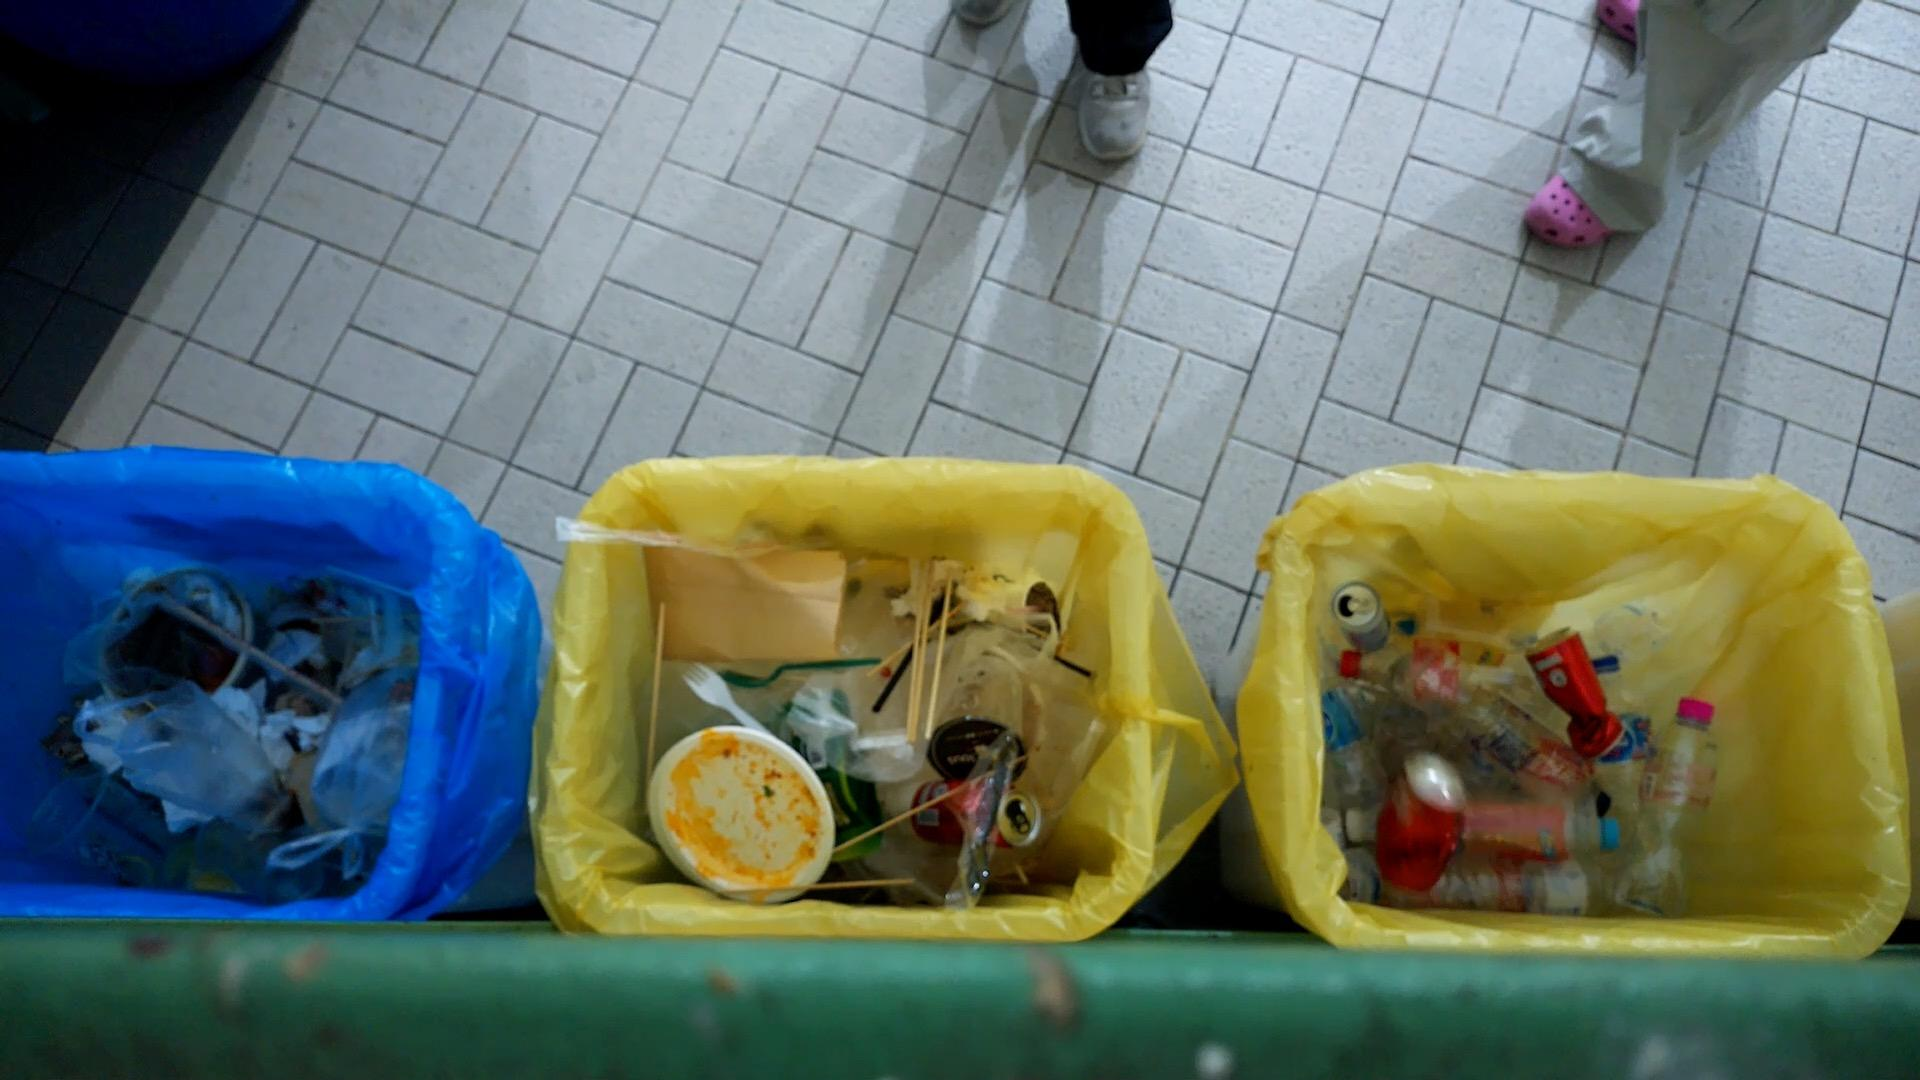can: (1370, 750, 1469, 902), (1526, 624, 1626, 765), (911, 781, 1044, 849), (1329, 582, 1393, 658)
dirty food container: (644, 727, 837, 909)
filled plastic bag: (268, 708, 422, 886)
paper bag: (650, 547, 853, 667)
plastic bag: (78, 680, 278, 829)
plastic bottle: (1394, 657, 1611, 828), (1610, 696, 1720, 918)
plastic cup: (924, 650, 1029, 790)
plastic cutlery: (679, 658, 764, 737), (717, 653, 878, 691)
sticks: (150, 589, 347, 715), (833, 746, 1050, 856), (898, 568, 936, 746), (873, 609, 959, 675), (725, 874, 924, 902), (926, 576, 959, 742), (638, 599, 669, 777)
straw: (554, 518, 782, 566), (873, 576, 934, 719)
